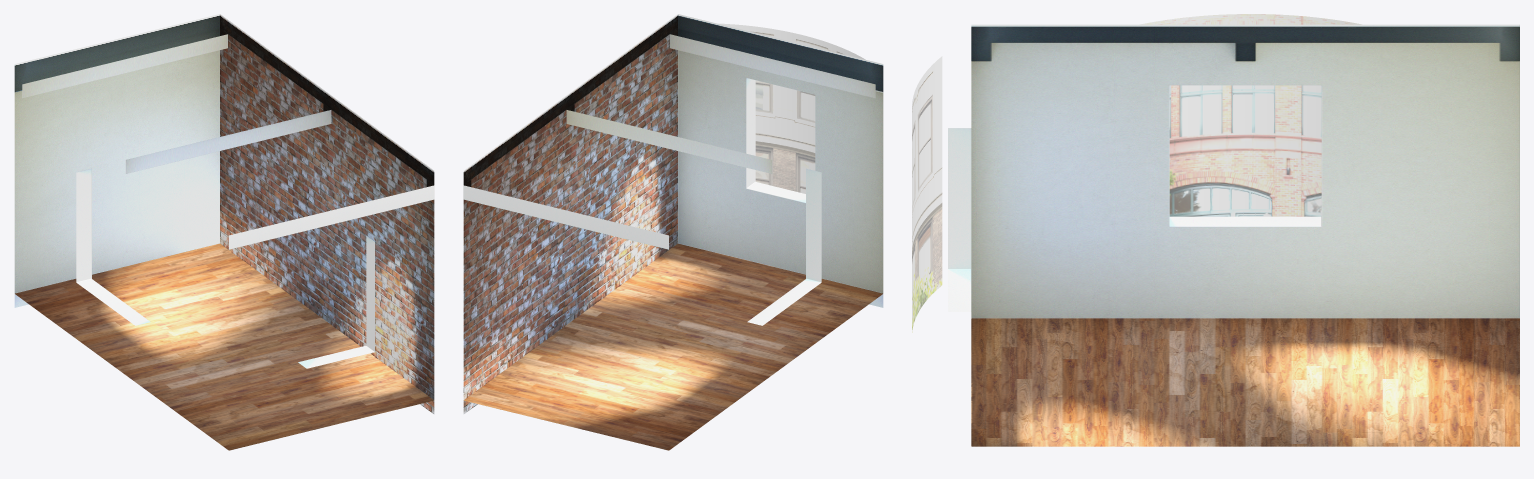
The picture shows the model from 3 angles, left to right: view 1: azimuth 30°, elevation 25°; view 2: azimuth 150°, elevation 25°; view 3: azimuth 270°, elevation 25°; orthographic projection. The views are drawn at different scales.
Parts seen in each view (by area): view 1: Object001, Object, Object002, Box001; view 2: Object, Object002, Object001, Box001, Arc001; view 3: Object001, Object002, Arc001.
Part boxes in pixels (left/top/right/bottom): Object001: left=14, top=14, right=374, bottom=368; Object: left=220, top=14, right=434, bottom=414; Object002: left=15, top=243, right=434, bottom=450; Box001: left=22, top=34, right=434, bottom=249; Object: left=463, top=14, right=677, bottom=414; Object002: left=463, top=243, right=882, bottom=450; Object001: left=678, top=14, right=883, bottom=325; Box001: left=463, top=34, right=875, bottom=249; Arc001: left=719, top=23, right=865, bottom=193; Object001: left=948, top=24, right=1519, bottom=318; Object002: left=971, top=318, right=1519, bottom=446; Arc001: left=912, top=14, right=1361, bottom=332.
Bounding box in the file's own units: 3.65 × 3.4 × 6.01.
Materials: 5 (5 with a texture image).
